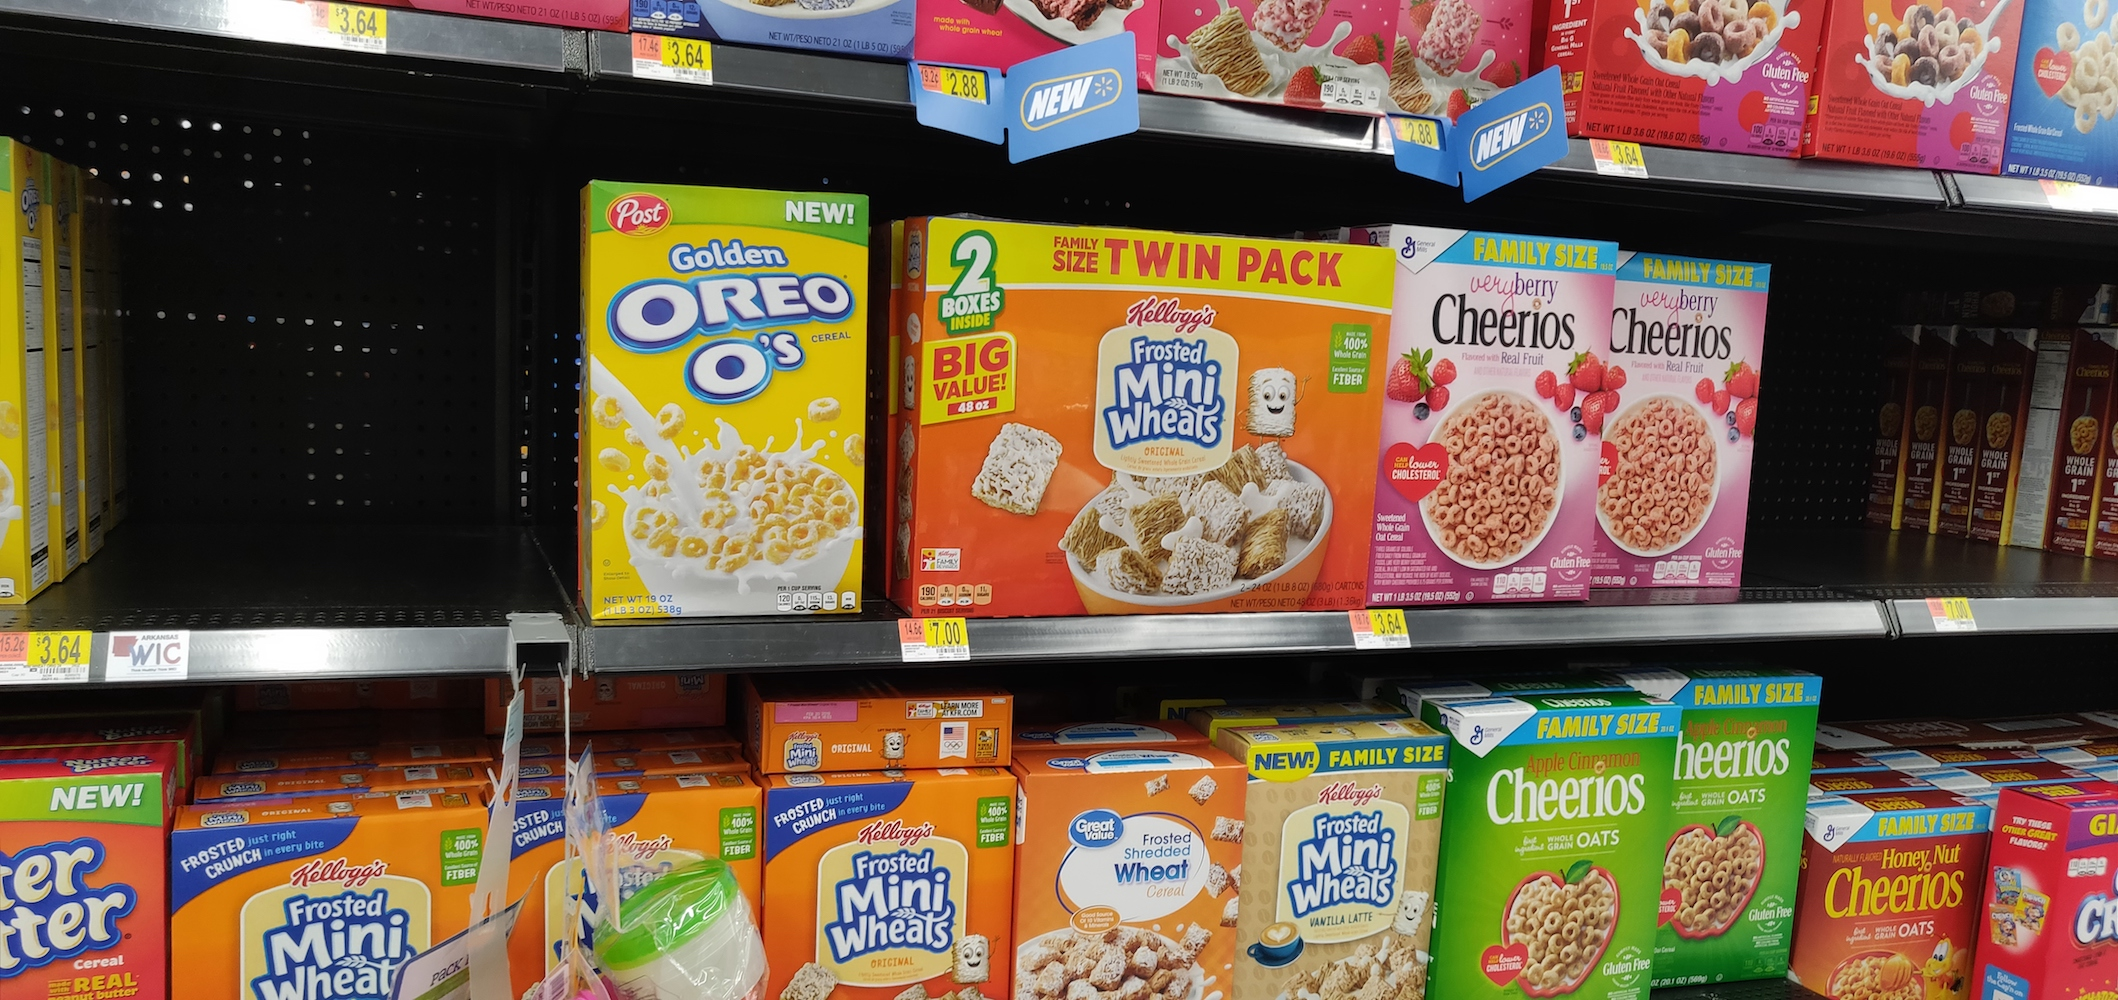Oreo Golden-568301011: (586, 180, 873, 611)
